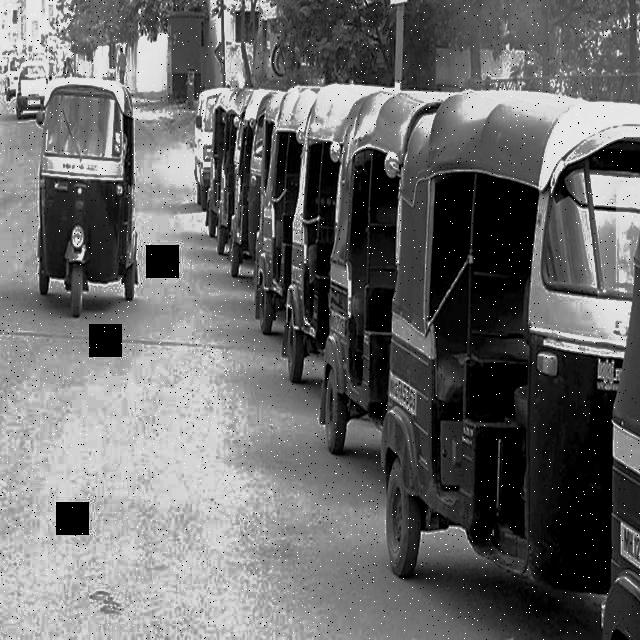Auto-Rickshaw: (31, 66, 148, 334)
